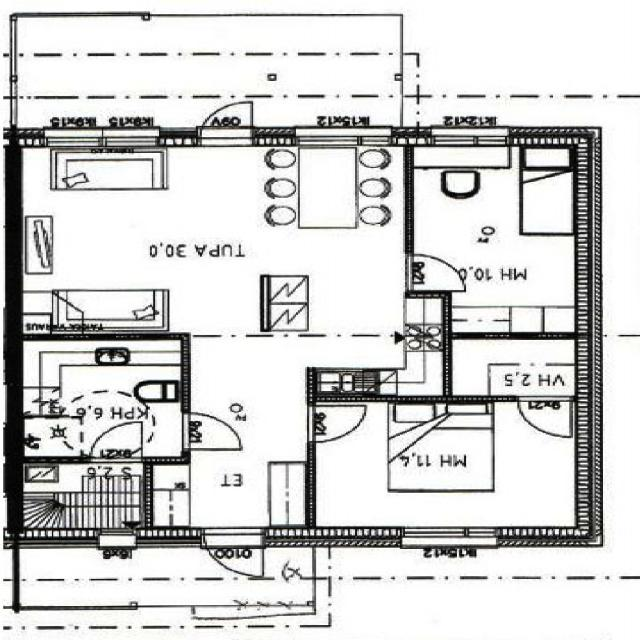door: (204, 527, 263, 575), (200, 101, 252, 146), (518, 394, 571, 436), (306, 404, 366, 440), (89, 421, 141, 462), (182, 412, 241, 448), (405, 254, 463, 290)
